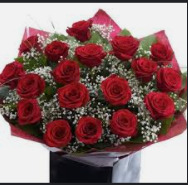RedRose: (58, 80, 93, 111), (104, 76, 134, 107), (75, 40, 106, 69), (109, 109, 137, 140), (145, 91, 174, 120), (156, 61, 183, 92), (46, 116, 71, 148), (0, 57, 27, 86), (76, 113, 101, 144), (53, 59, 83, 82), (19, 71, 44, 97), (112, 34, 137, 60), (14, 98, 39, 123), (132, 55, 158, 79), (151, 38, 175, 64), (67, 20, 95, 41), (43, 41, 70, 62), (13, 34, 41, 54)
